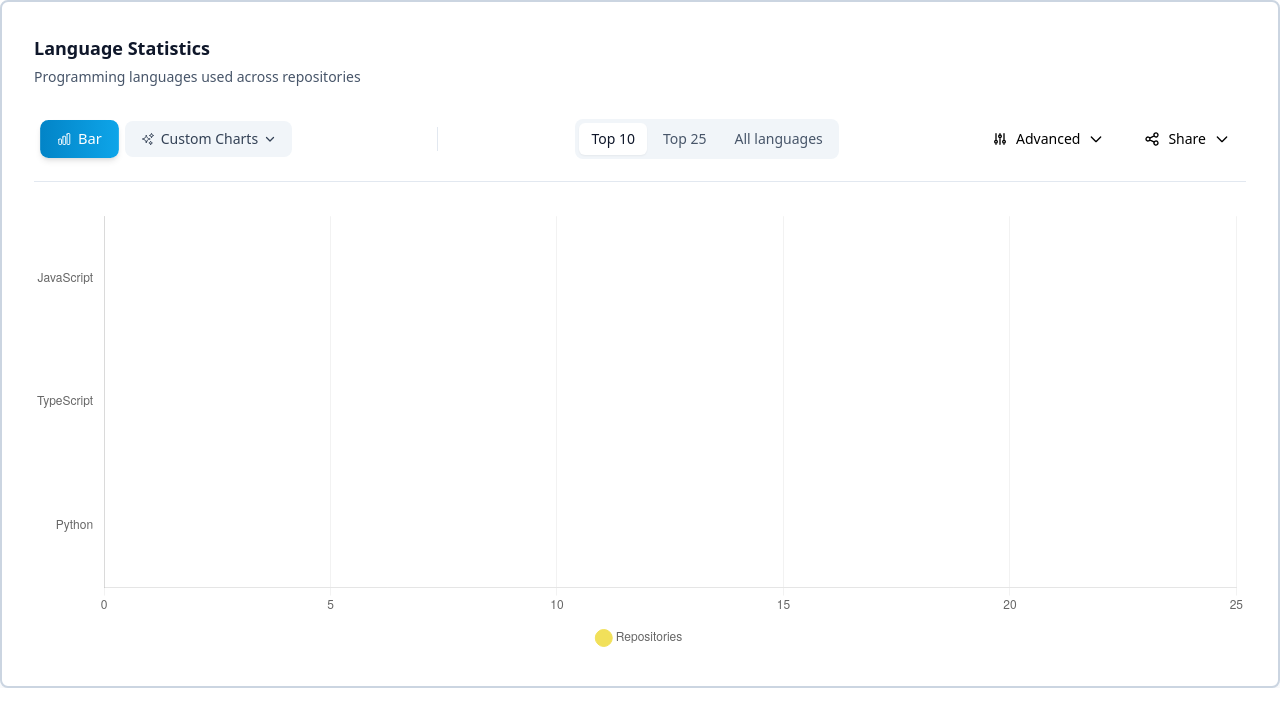
Test: ChartPanel › Custom Charts dropdown › dropdown contains Pie Chart and Polar Area options
Click the tab "Custom Charts" at (208, 139), box [125,121,292,157]
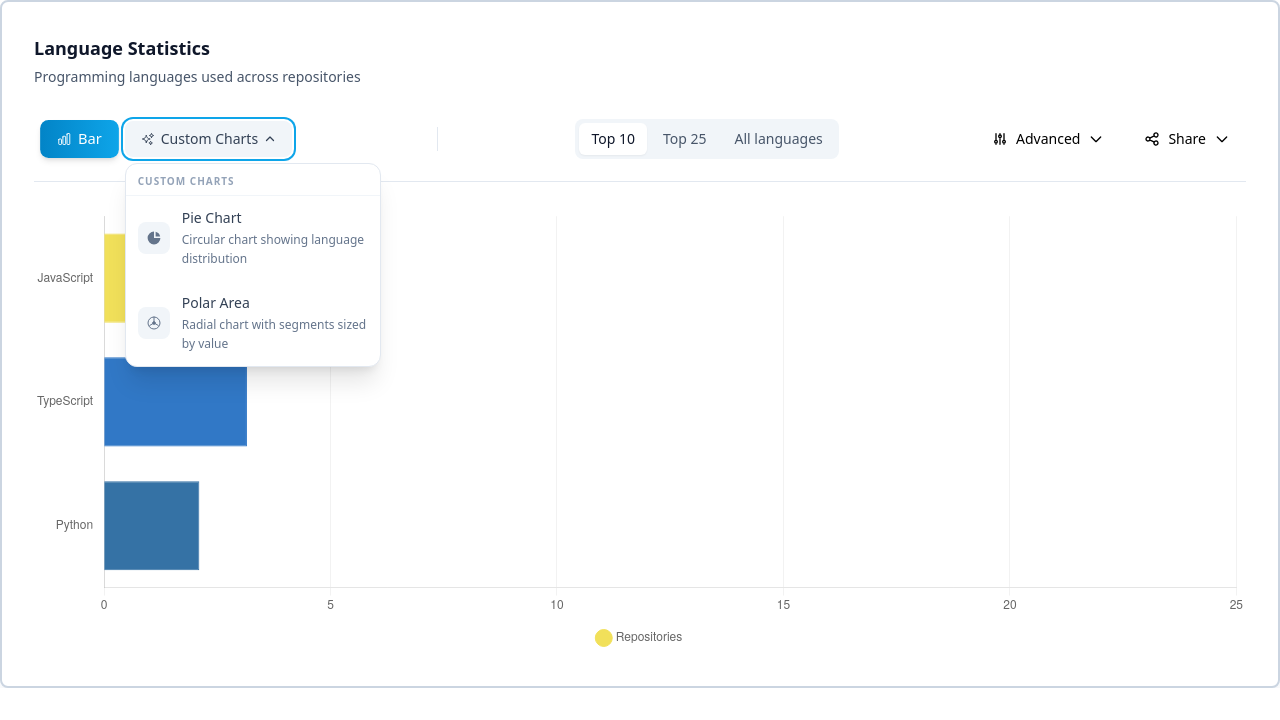
Now the option "Pie Chart Circular chart showing language distribution" is shown, box [126,196,380,281]
Now the option "Polar Area Radial chart with segments sized by value" is shown, box [126,281,380,366]
